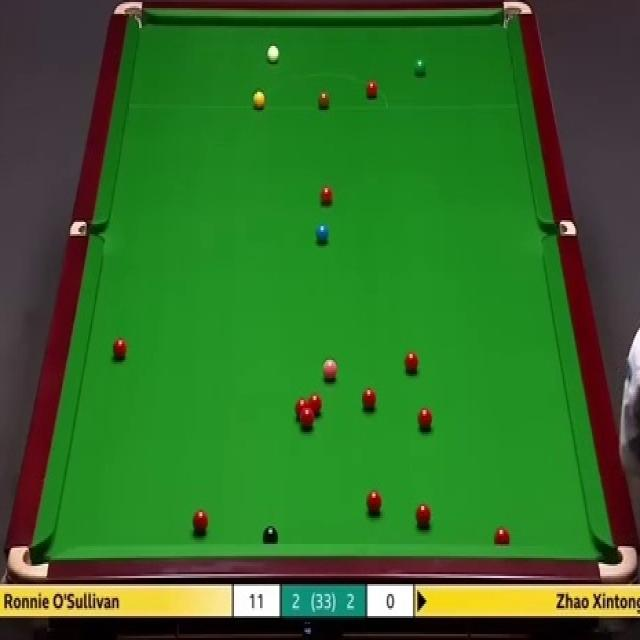black-ball: (261, 523, 278, 543)
blue-ball: (315, 224, 330, 244)
brown-ball: (318, 88, 330, 108)
green-ball: (412, 56, 426, 78)
pink-ball: (322, 359, 339, 384)
red-ball: (318, 184, 336, 208), (418, 406, 433, 434), (365, 490, 382, 514), (112, 338, 127, 365), (192, 511, 208, 534), (362, 386, 377, 410), (492, 527, 512, 545), (416, 506, 433, 527), (294, 398, 308, 422), (309, 393, 322, 418), (364, 78, 379, 99), (300, 411, 316, 430), (404, 352, 418, 372)
white-ball: (267, 44, 282, 66)
yellow-ball: (252, 91, 266, 109)
